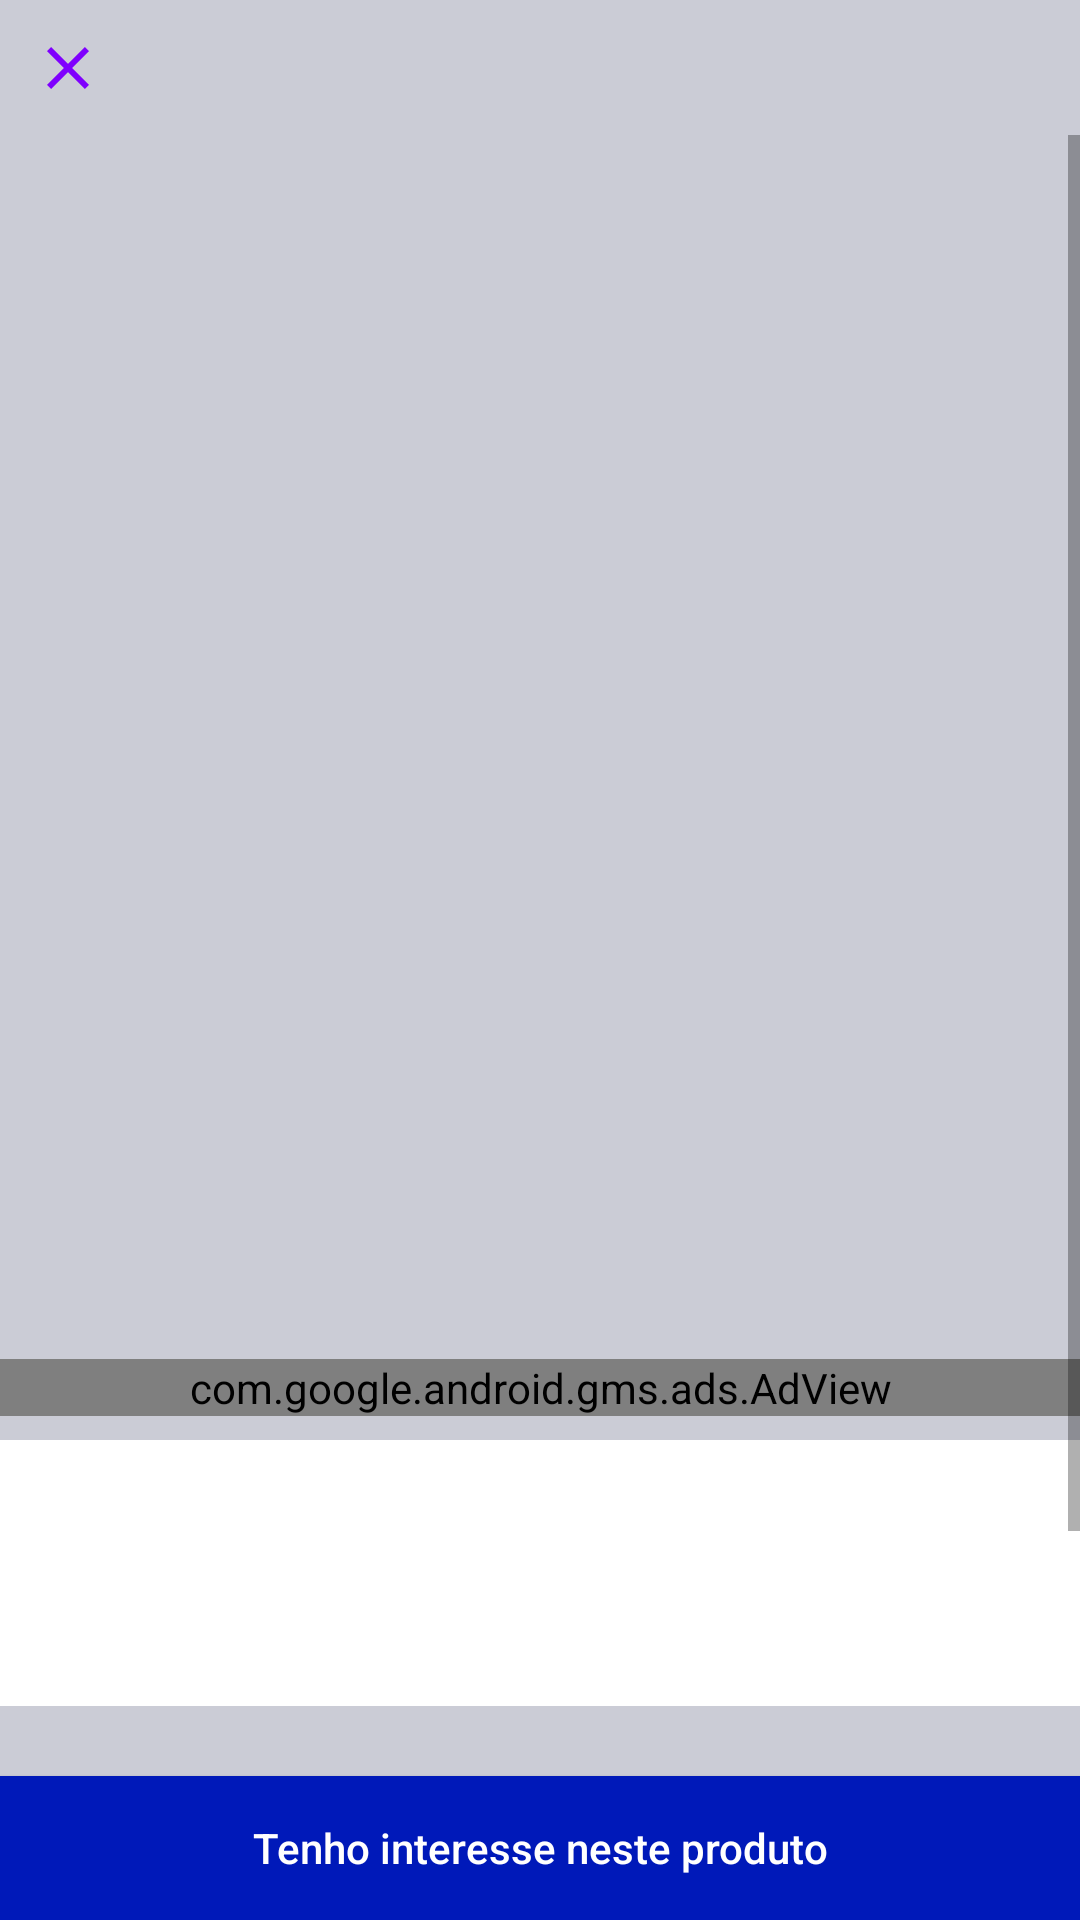

Icon bounding boxes for this 1080px x 1920px phone screenshot, format [left=x1, top=y1, right=x2, bottom=y2]:
close: [left=47, top=47, right=89, bottom=89]
